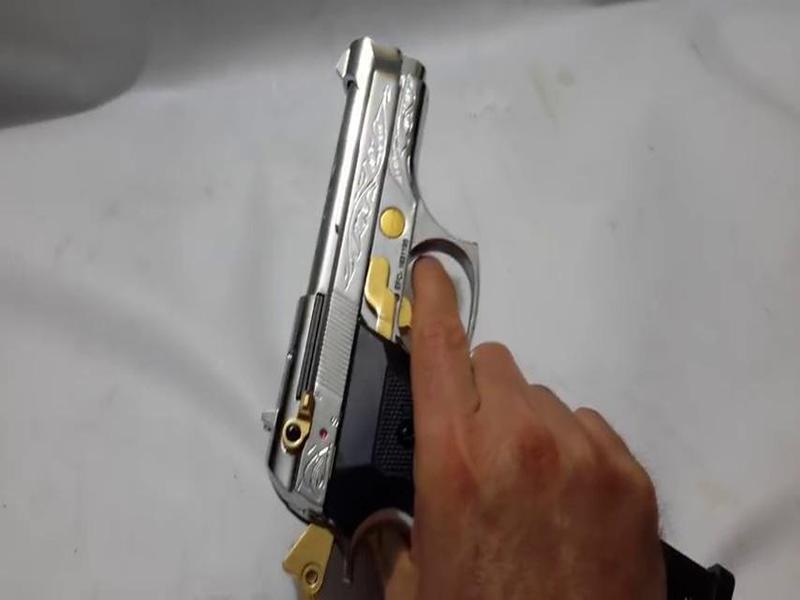Pistola: (262, 10, 757, 600)
